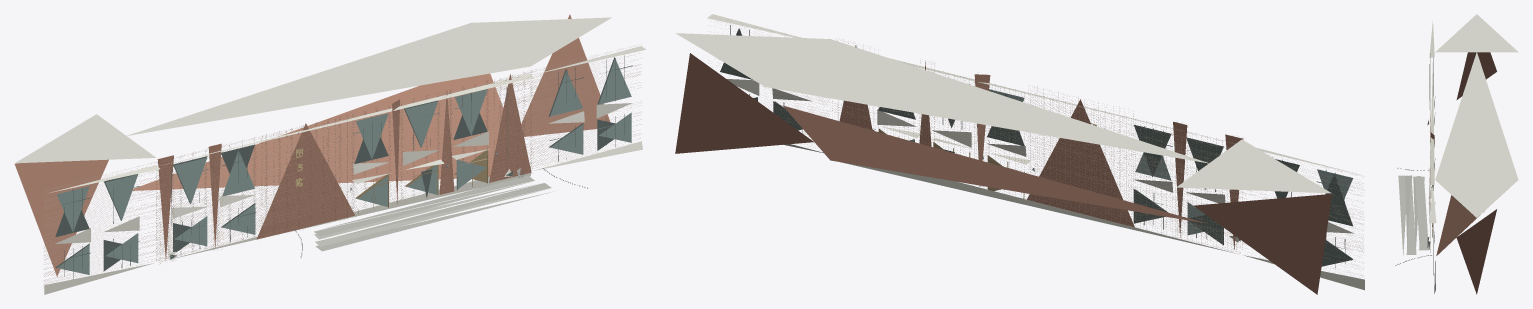
3 renders of one model, left to right at view 1: azimuth 30°, elevation 25°; view 2: azimuth 150°, elevation 25°; view 3: azimuth 270°, elevation 25°, orthographic. The views are drawn at different scales.
Visible parts, largest first — view 1: 理科图书馆 · Library muted red brick.002, 理科图书馆 · Library ivory panels.002, 理科图书馆 · Library green grey glazing.002, 理科图书馆 · Library mortar.002, 理科图书馆 · Library dark steel.002, 理科图书馆 · Library entry steps.002, 理科图书馆 · Library bronze doors.002; view 2: 理科图书馆 · Library muted red brick.002, 理科图书馆 · Library ivory panels.002, 理科图书馆 · Library dark steel.002, 理科图书馆 · Library mortar.002, 理科图书馆 · Library green grey glazing.002; view 3: 理科图书馆 · Library ivory panels.002, 理科图书馆 · Library muted red brick.002, 理科图书馆 · Library entry steps.002, 理科图书馆 · Library mortar.002, 理科图书馆 · Library dark steel.002.
Boxes of the visible parts, bbox=[...] form: 理科图书馆 · Library muted red brick.002: bbox=[14, 14, 610, 276]; 理科图书馆 · Library ivory panels.002: bbox=[15, 17, 645, 294]; 理科图书馆 · Library green grey glazing.002: bbox=[57, 58, 631, 274]; 理科图书馆 · Library mortar.002: bbox=[43, 44, 641, 284]; 理科图书馆 · Library dark steel.002: bbox=[55, 55, 632, 278]; 理科图书馆 · Library entry steps.002: bbox=[170, 172, 552, 259]; 理科图书馆 · Library bronze doors.002: bbox=[355, 149, 487, 214]; 理科图书馆 · Library muted red brick.002: bbox=[675, 45, 1332, 294]; 理科图书馆 · Library ivory panels.002: bbox=[675, 14, 1364, 290]; 理科图书馆 · Library dark steel.002: bbox=[720, 25, 1352, 267]; 理科图书馆 · Library mortar.002: bbox=[731, 23, 1364, 276]; 理科图书馆 · Library green grey glazing.002: bbox=[739, 28, 1353, 259]; 理科图书馆 · Library ivory panels.002: bbox=[1395, 14, 1518, 293]; 理科图书馆 · Library muted red brick.002: bbox=[1430, 52, 1496, 294]; 理科图书馆 · Library entry steps.002: bbox=[1398, 175, 1428, 255]; 理科图书馆 · Library mortar.002: bbox=[1430, 53, 1430, 252]; 理科图书馆 · Library dark steel.002: bbox=[1427, 57, 1433, 275].
Size of the model in its own units: 64 by 11.24 by 16.37.
